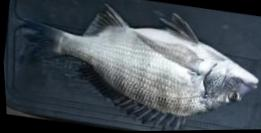fish: (19, 4, 257, 130)
